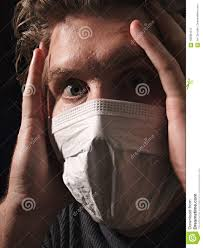masked: (12, 1, 184, 225)
